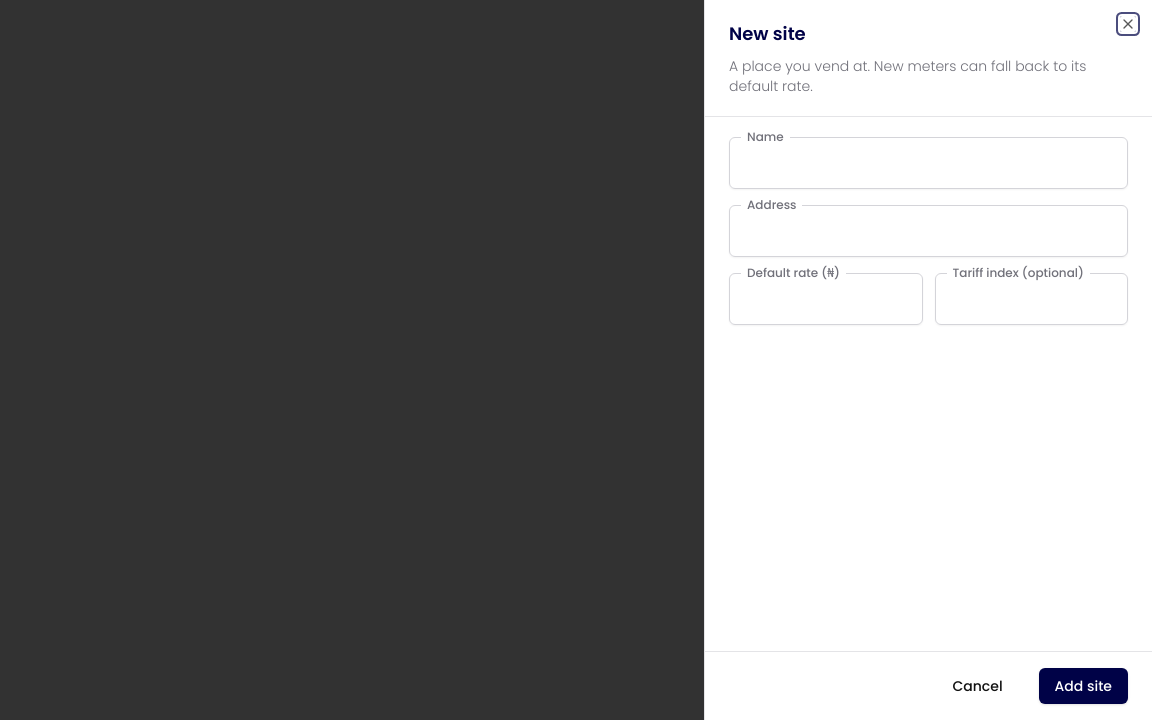
Test: SiteSheet › lands a taken name under its field
The image size is (1152, 720).
Type "Ikeja Estate" into the field labelled "Name".
click(928, 163); type("Ikeja Estate")  # box x1=729 y1=137 x2=1128 y2=189
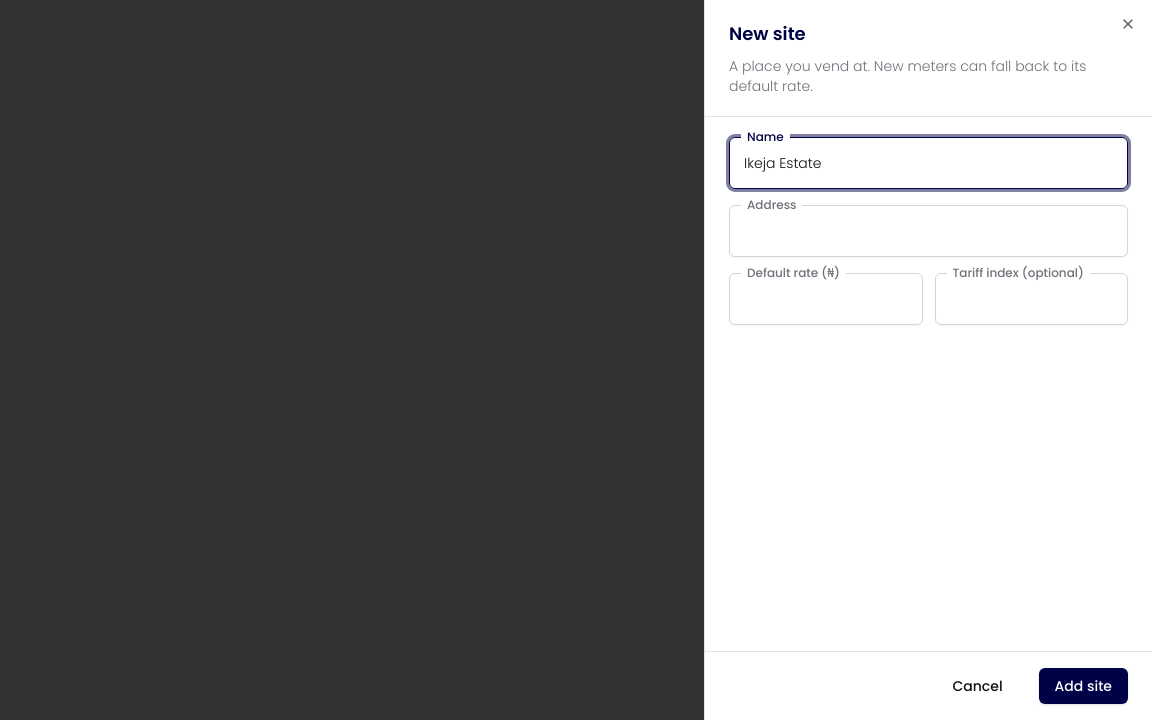
Type "1 Estate Road" into the field labelled "Address".
click(928, 231); type("1 Estate Road")  # box x1=729 y1=205 x2=1128 y2=257
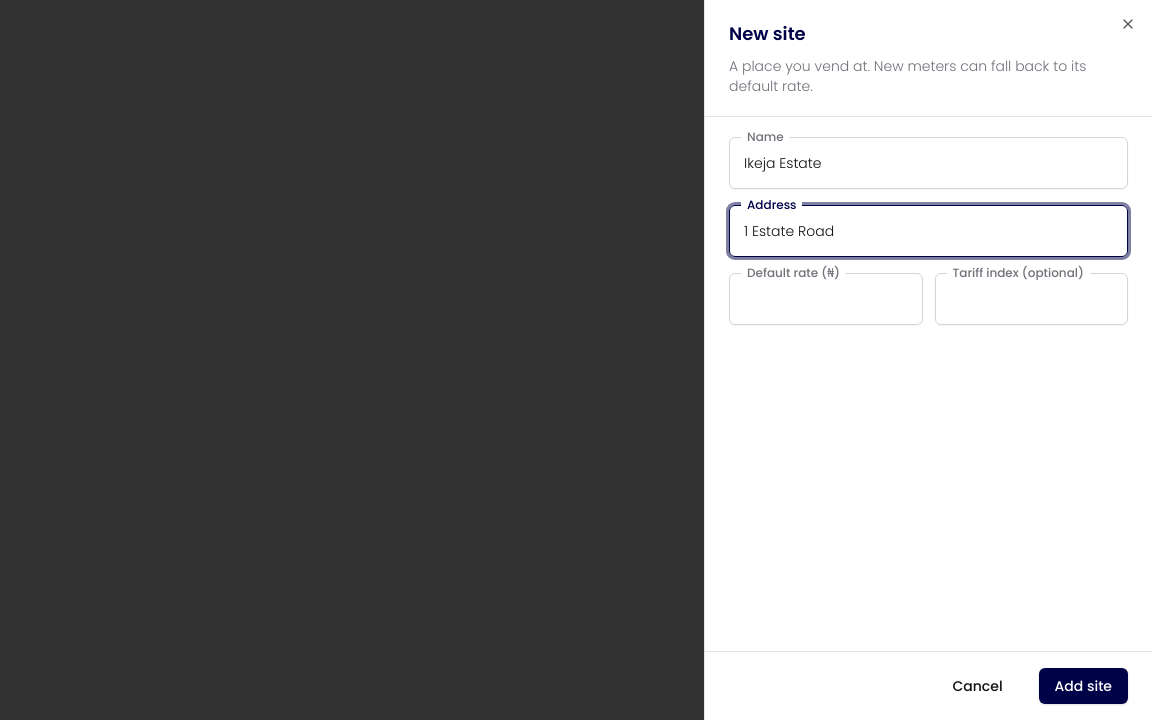
Type "1" into the number field labelled "Default rate (₦)".
click(826, 299); type("1")  # box x1=729 y1=273 x2=922 y2=325
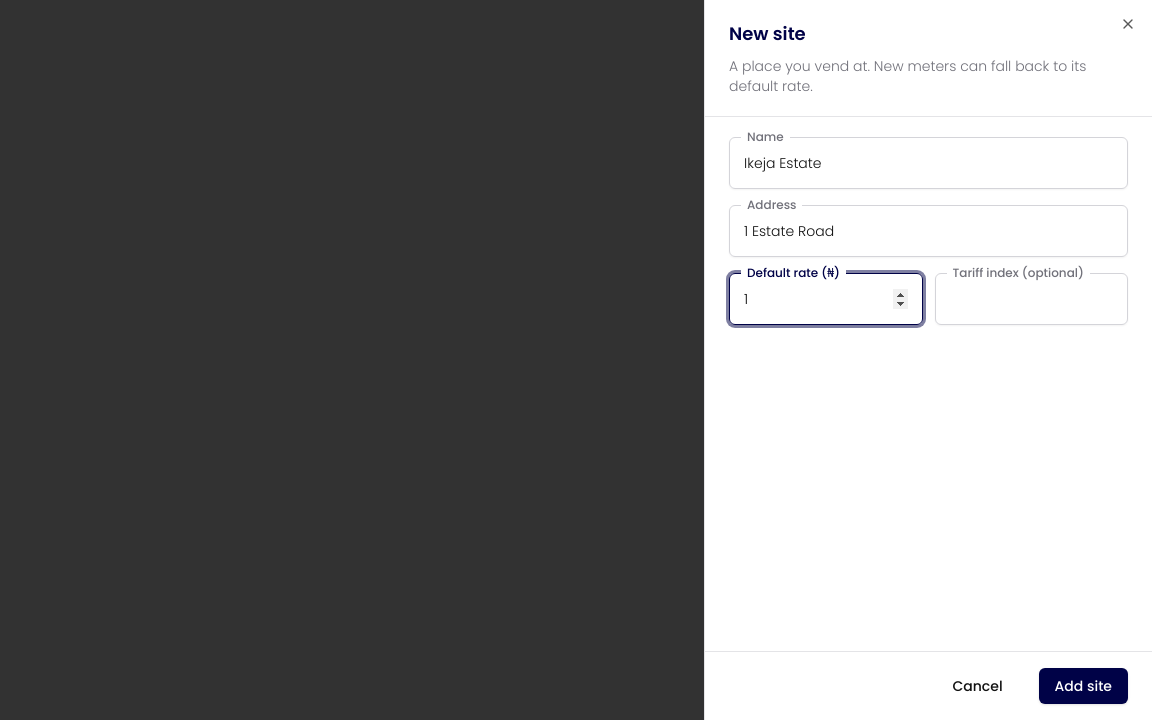
Click the button "Add site".
click(1083, 686)  # box x1=1039 y1=668 x2=1128 y2=704
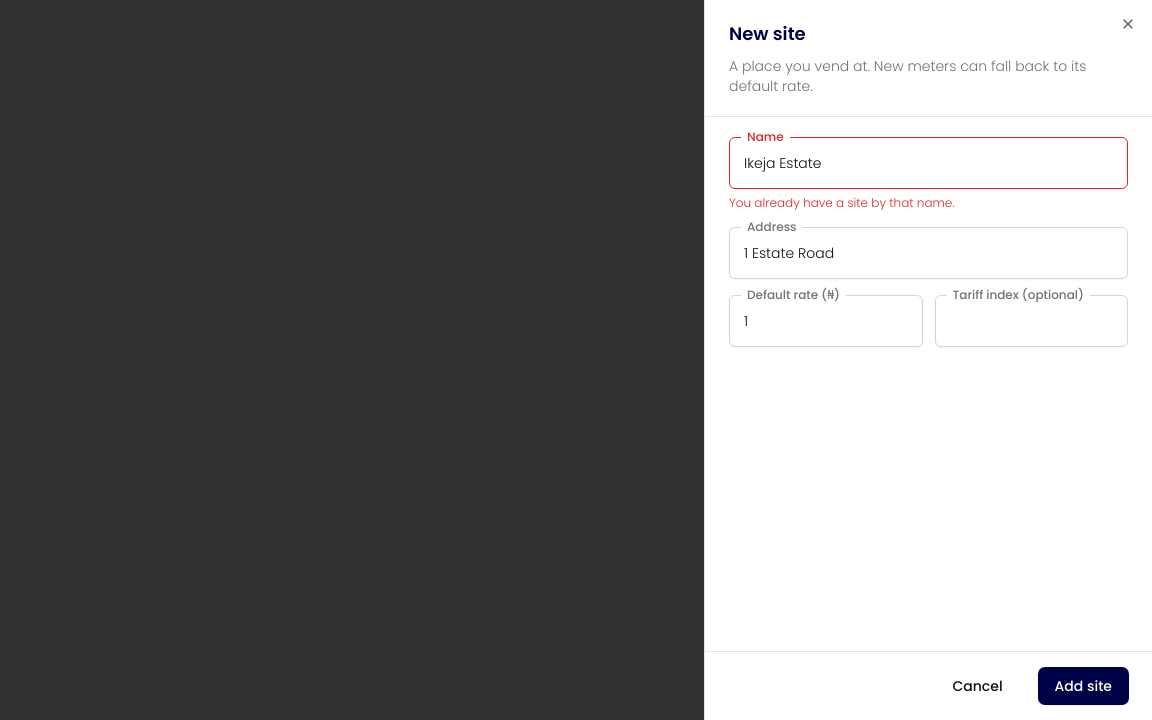
Now the text "You already have a site by that name." is shown, box x1=729 y1=194 x2=954 y2=211
